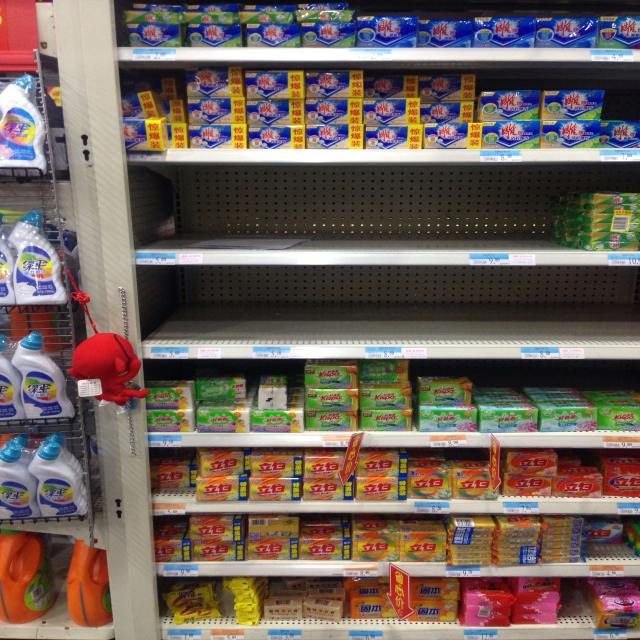void: (135, 165, 179, 267), (316, 165, 356, 265), (226, 165, 266, 264), (184, 166, 222, 265), (272, 166, 310, 264), (444, 165, 481, 264), (139, 264, 177, 360), (403, 166, 440, 264), (361, 166, 397, 265), (511, 269, 549, 360), (250, 269, 287, 358), (434, 264, 468, 360), (394, 267, 430, 357), (487, 167, 520, 264), (525, 165, 556, 266), (325, 268, 359, 358), (474, 266, 506, 358), (181, 269, 213, 358), (290, 267, 321, 357), (612, 266, 640, 359), (362, 268, 390, 358), (559, 162, 583, 264), (219, 268, 245, 360), (583, 268, 609, 359), (554, 269, 579, 361), (566, 577, 590, 639)
